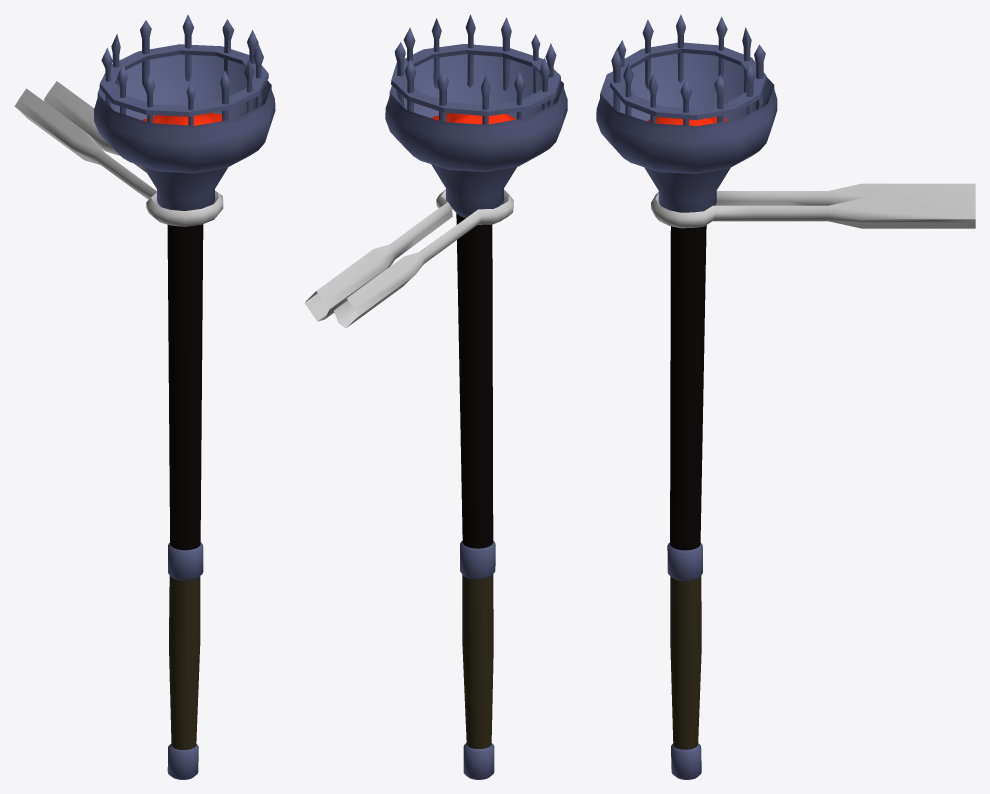
Rendered from TorchWall_19.fbx.
3 renders of one model, left to right at view 1: azimuth 30°, elevation 25°; view 2: azimuth 150°, elevation 25°; view 3: azimuth 270°, elevation 25°, orthographic.
Parts seen in each view (by area): view 1: TorchWall_19; view 2: TorchWall_19; view 3: TorchWall_19.
Boxes of the visible parts, left/top/right/bottom form: TorchWall_19: left=14, top=14, right=275, bottom=779; TorchWall_19: left=304, top=14, right=567, bottom=779; TorchWall_19: left=596, top=14, right=975, bottom=779.
Bounding box in the file's own units: 14.22 × 29.66 × 62.99.
